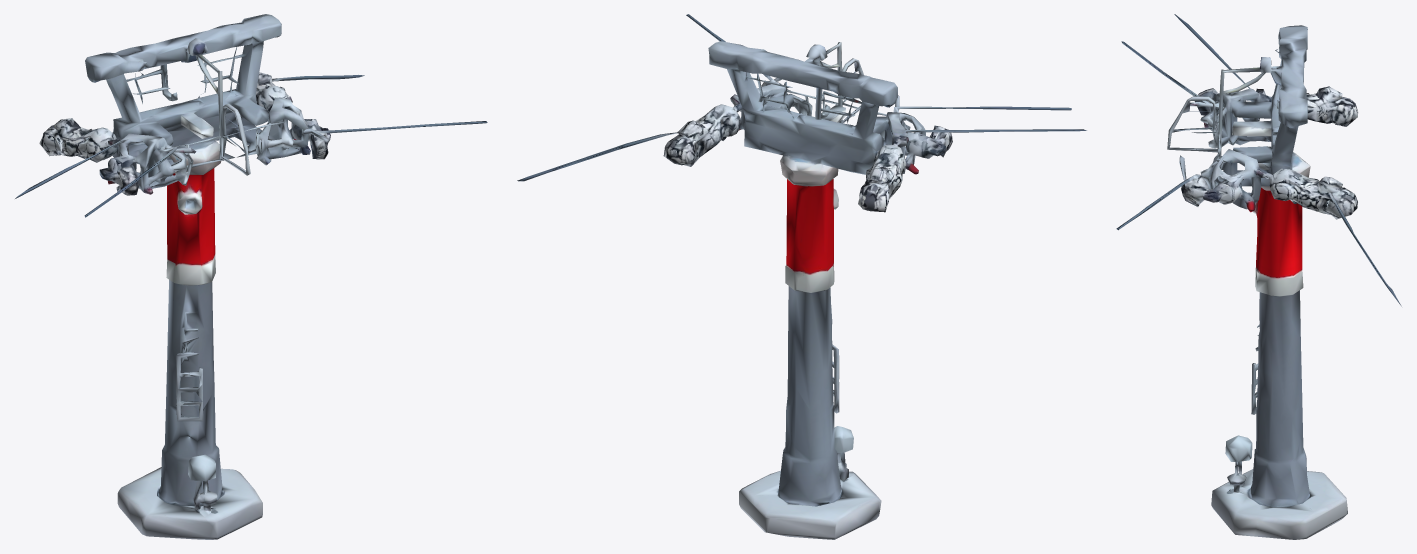
File: pylon.glb
3 renders of one model, left to right at view 1: azimuth 30°, elevation 25°; view 2: azimuth 150°, elevation 25°; view 3: azimuth 270°, elevation 25°, orthographic. The views are drawn at different scales.
Visible parts, largest first — view 1: tripo_node_08cea5f6-5e7f-4bc0-911e-945690641e67; view 2: tripo_node_08cea5f6-5e7f-4bc0-911e-945690641e67; view 3: tripo_node_08cea5f6-5e7f-4bc0-911e-945690641e67.
Part boxes in pixels (box(x1,y1,x2,y2)): tripo_node_08cea5f6-5e7f-4bc0-911e-945690641e67: box(15, 14, 487, 539); tripo_node_08cea5f6-5e7f-4bc0-911e-945690641e67: box(517, 14, 1086, 539); tripo_node_08cea5f6-5e7f-4bc0-911e-945690641e67: box(1116, 14, 1401, 539).
Bounding box in the file's own units: 0.9883 × 0.9581 × 0.5463.
Materials: 1 (1 with a texture image).
